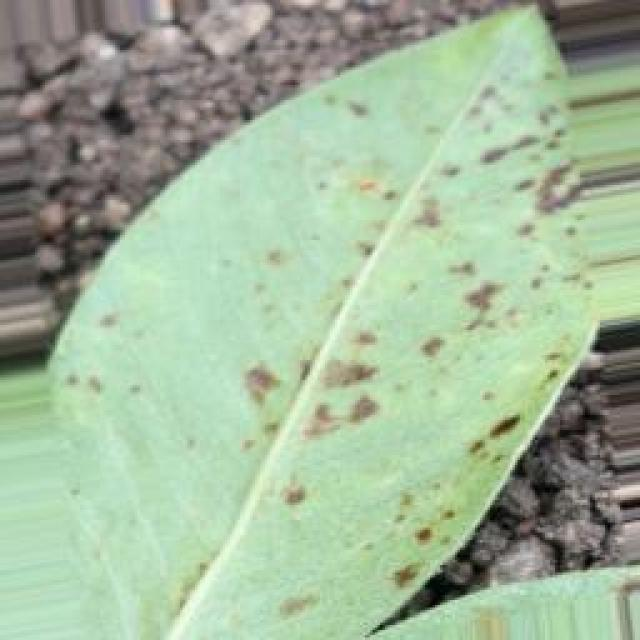Whitefly: (121, 45, 607, 589)
